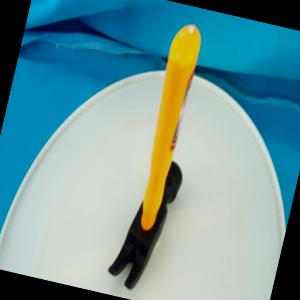martelo: (104, 15, 218, 296)
